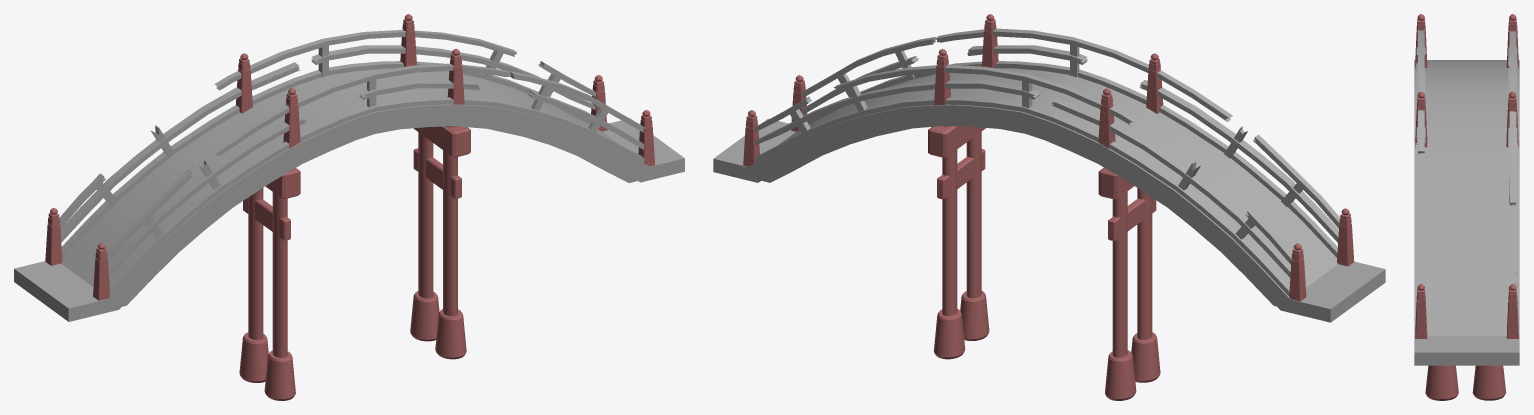
Rendered from 3dm_Bridge_01a.fbx.
3 renders of one model, left to right at view 1: azimuth 30°, elevation 25°; view 2: azimuth 150°, elevation 25°; view 3: azimuth 270°, elevation 25°, orthographic. The views are drawn at different scales.
Visible parts, largest first — view 1: polySurface32, polySurface50, polySurface48, pSphere7, pCylinder5, polySurface33, polySurface29, polySurface44, polySurface49; view 2: polySurface32, polySurface50, polySurface48, pSphere7, pCylinder5, polySurface34, polySurface29, polySurface44, polySurface49; view 3: polySurface32, polySurface50, pSphere7, pCylinder5.
Part boxes in pixels (left/top/right/bottom): polySurface32: left=14, top=61, right=684, bottom=321; polySurface50: left=59, top=30, right=644, bottom=277; polySurface48: left=248, top=126, right=457, bottom=357; pSphere7: left=45, top=14, right=654, bottom=300; pCylinder5: left=239, top=291, right=466, bottom=400; polySurface33: left=122, top=120, right=637, bottom=306; polySurface29: left=96, top=45, right=607, bottom=238; polySurface44: left=265, top=126, right=470, bottom=198; polySurface49: left=243, top=148, right=461, bottom=240; polySurface32: left=713, top=61, right=1385, bottom=322; polySurface50: left=754, top=28, right=1340, bottom=277; polySurface48: left=942, top=126, right=1152, bottom=357; pSphere7: left=743, top=14, right=1354, bottom=301; pCylinder5: left=933, top=291, right=1160, bottom=400; polySurface34: left=762, top=120, right=1275, bottom=306; polySurface29: left=790, top=44, right=1302, bottom=239; polySurface44: left=928, top=126, right=1134, bottom=199; polySurface49: left=937, top=149, right=1156, bottom=241; polySurface32: left=1414, top=60, right=1519, bottom=365; polySurface50: left=1416, top=30, right=1517, bottom=295; pSphere7: left=1415, top=14, right=1518, bottom=338; pCylinder5: left=1425, top=365, right=1505, bottom=400.
Bounding box in the file's own units: 1409 × 686 × 217.
